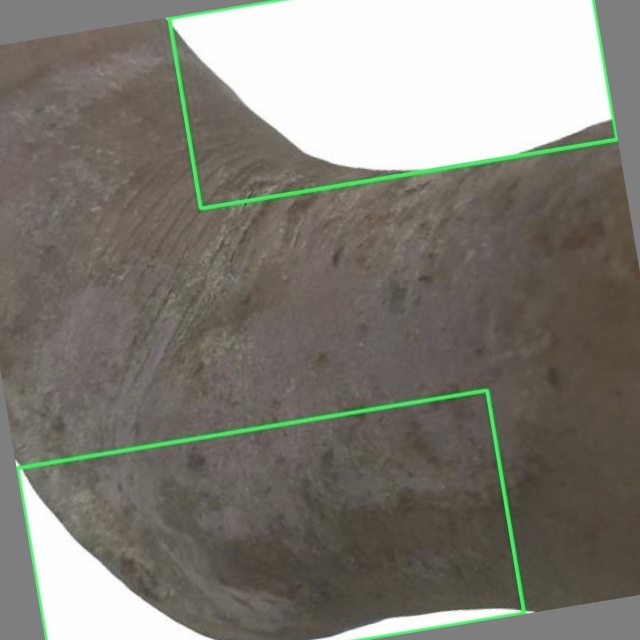Eczema: (17, 390, 524, 639), (169, 0, 617, 208)
